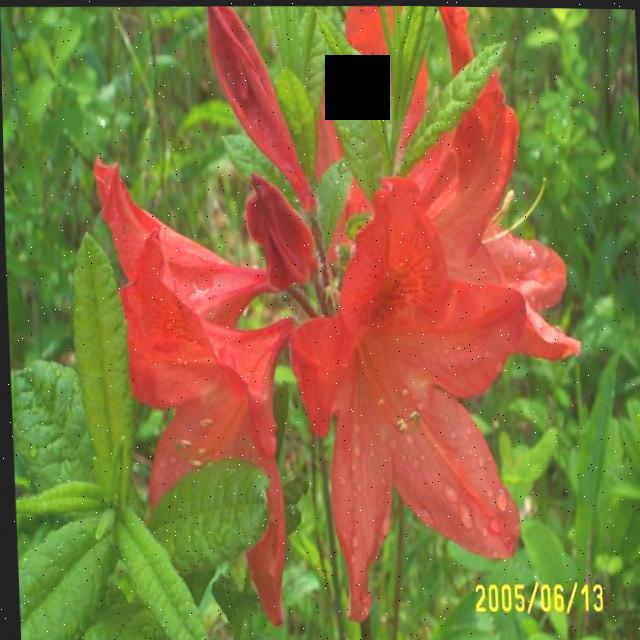azalea: (298, 187, 523, 579), (124, 260, 322, 588)
